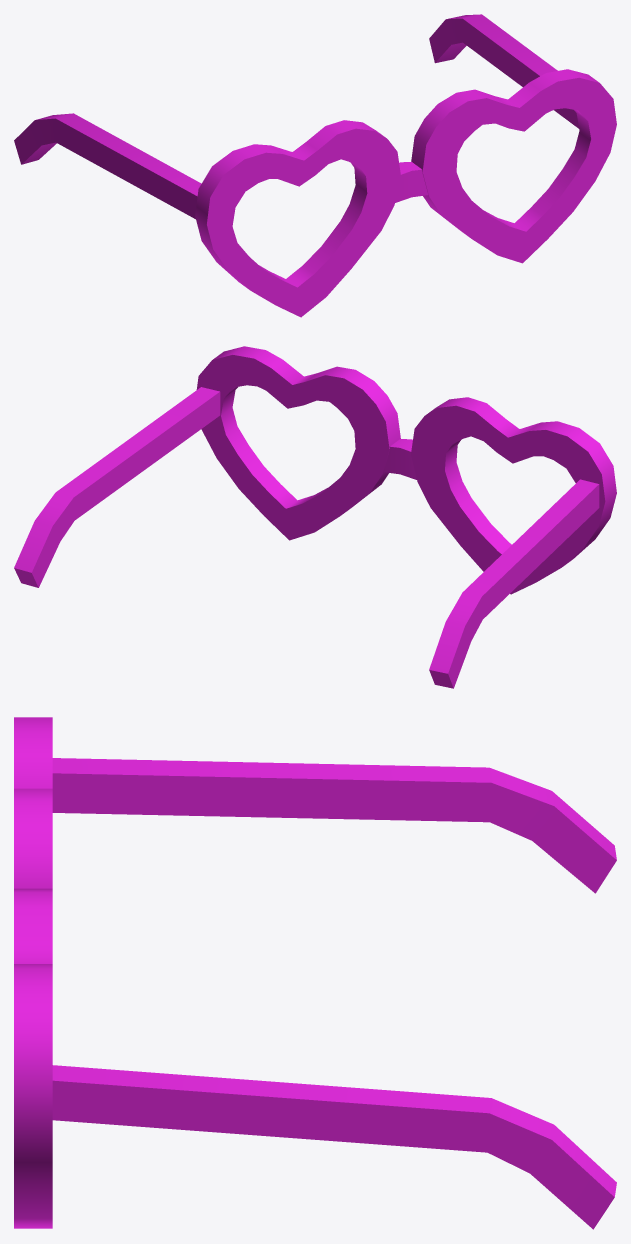
Rendered from Glasses_hearts.fbx.
The picture shows the model from 3 angles, top to bottom: view 1: azimuth 30°, elevation 25°; view 2: azimuth 150°, elevation 25°; view 3: azimuth 270°, elevation 25°; orthographic projection. The views are drawn at different scales.
Visible parts, largest first — view 1: Glasses_hearts.c, Glasses_stick_14, Glasses_stick_13; view 2: Glasses_hearts.c, Glasses_stick_13, Glasses_stick_14; view 3: Glasses_stick_13, Glasses_stick_14, Glasses_hearts.c.
Boxes of the visible parts, bbox=[...] form: Glasses_hearts.c: bbox=[195, 69, 616, 317]; Glasses_stick_14: bbox=[14, 113, 201, 219]; Glasses_stick_13: bbox=[429, 14, 579, 128]; Glasses_hearts.c: bbox=[196, 346, 616, 594]; Glasses_stick_13: bbox=[14, 387, 220, 587]; Glasses_stick_14: bbox=[429, 479, 599, 688]; Glasses_stick_13: bbox=[52, 1065, 616, 1229]; Glasses_stick_14: bbox=[52, 758, 616, 893]; Glasses_hearts.c: bbox=[14, 717, 52, 1228].
Size of the model in its own units: 0.6451 by 0.2493 by 0.4672.
